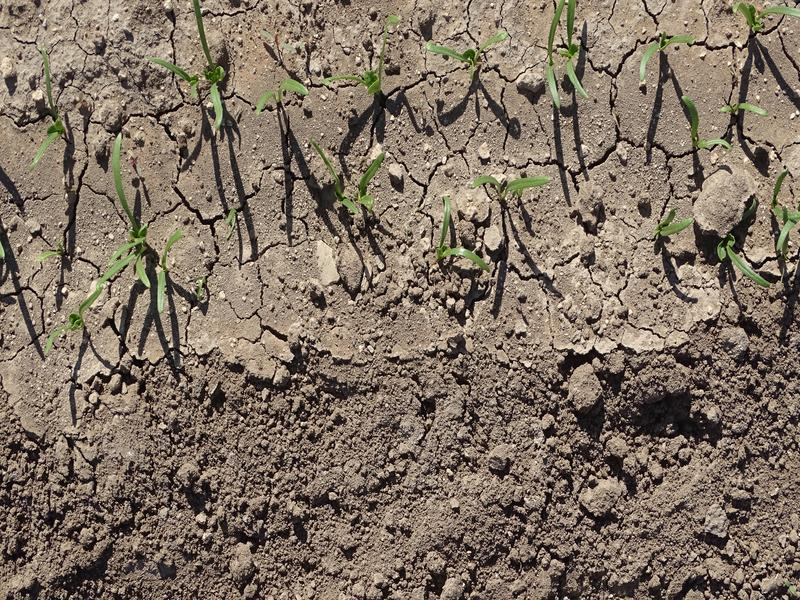Espinaca: (109, 134, 176, 305), (312, 137, 389, 212), (424, 195, 492, 274), (335, 37, 399, 102), (196, 5, 229, 130), (43, 288, 107, 350), (549, 1, 586, 106), (35, 50, 64, 166), (678, 101, 732, 159), (716, 233, 769, 291), (425, 33, 500, 69), (641, 26, 695, 76), (254, 77, 317, 115), (481, 167, 550, 201), (150, 51, 198, 99), (726, 4, 800, 33), (650, 209, 690, 251), (719, 94, 762, 118), (776, 197, 795, 247)
